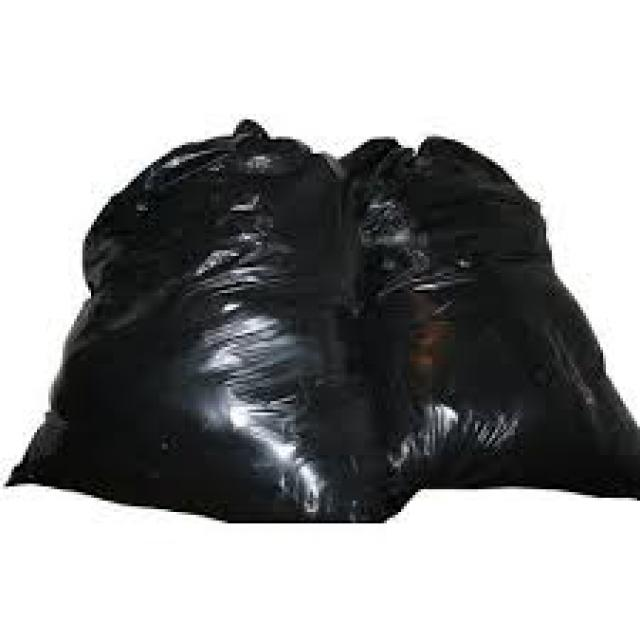plastic_bag: (14, 106, 375, 522), (369, 116, 616, 454)
